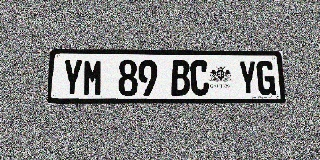8: (118, 60, 138, 96)
9: (138, 60, 157, 96)
B: (171, 60, 190, 96)
C: (190, 60, 209, 96)
G: (256, 61, 276, 95)
M: (83, 59, 103, 96)
Y: (62, 59, 83, 96), (238, 61, 257, 95)
